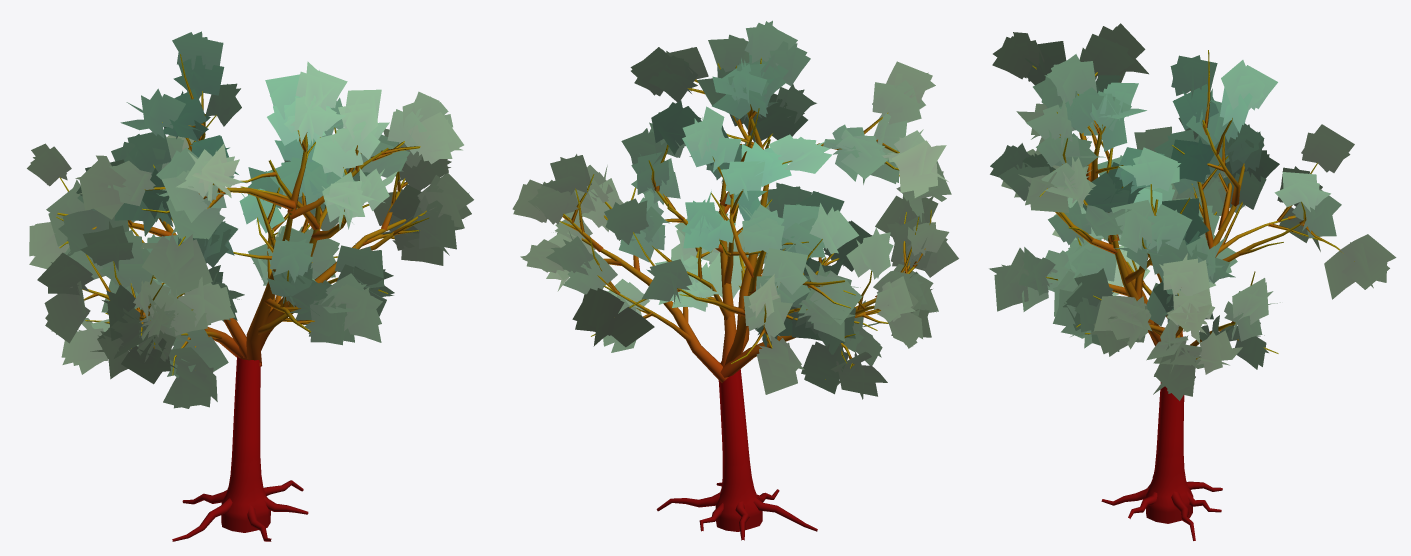
The model's file is oak_a.glb.
3 views of the same model, side by side, from view 1: azimuth 30°, elevation 25°; view 2: azimuth 150°, elevation 25°; view 3: azimuth 270°, elevation 25° (orthographic). The views are drawn at different scales.
Visible parts, largest first — view 1: LOD0; view 2: LOD0; view 3: LOD0.
Boxes of the visible parts, left/top/right/bottom form: LOD0: left=27, top=31, right=473, bottom=541; LOD0: left=512, top=20, right=958, bottom=540; LOD0: left=989, top=23, right=1396, bottom=540.
Size of what is drawn, in the model's own units: 14.61 by 16.67 by 12.93.
